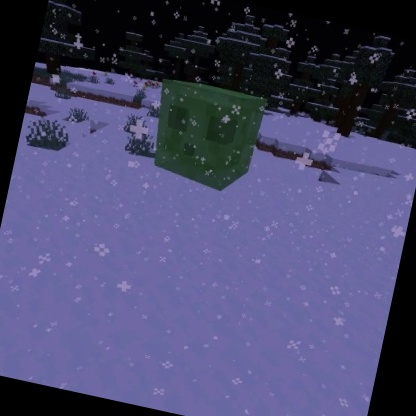slime: (140, 71, 272, 201)
